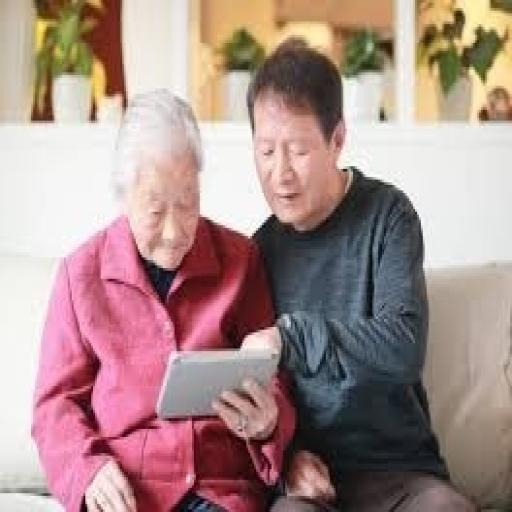using_laptop: (153, 343, 279, 421)
